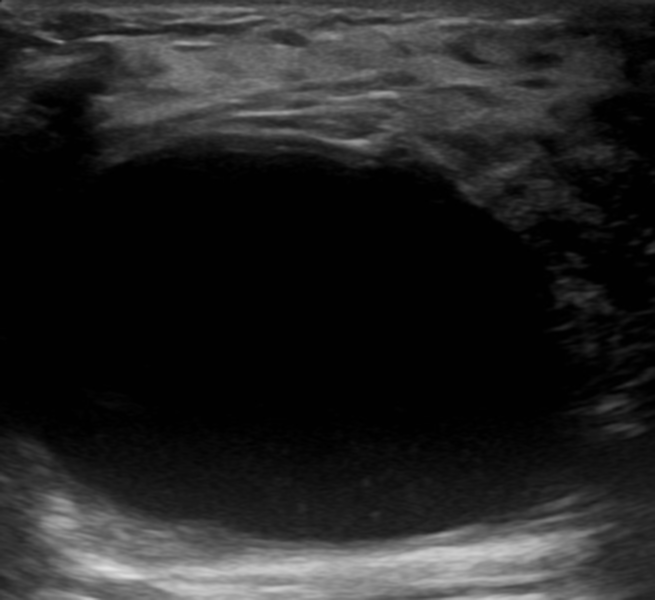Benign: (17, 139, 566, 526)
